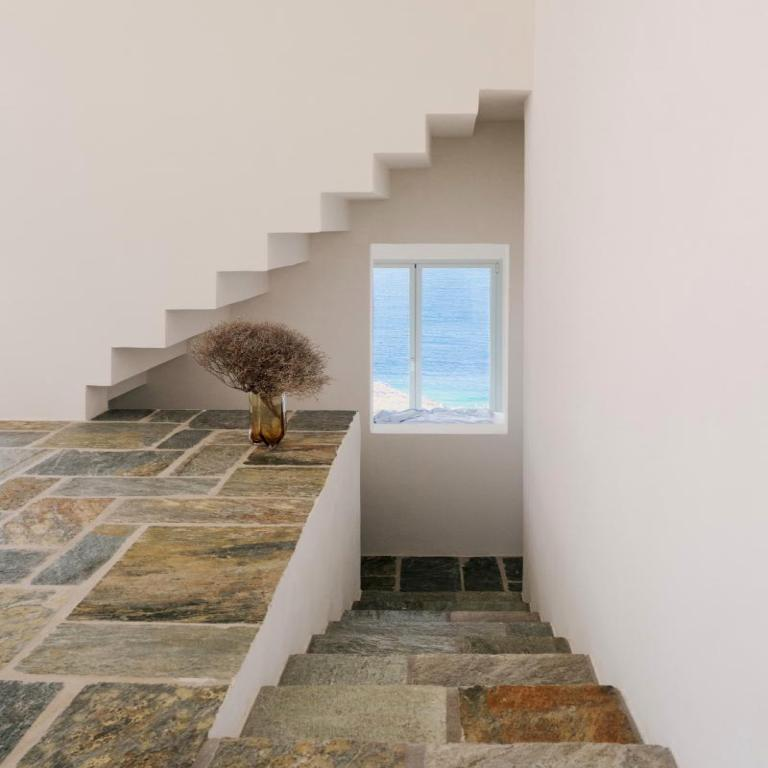white-walls: (38, 25, 484, 384)
